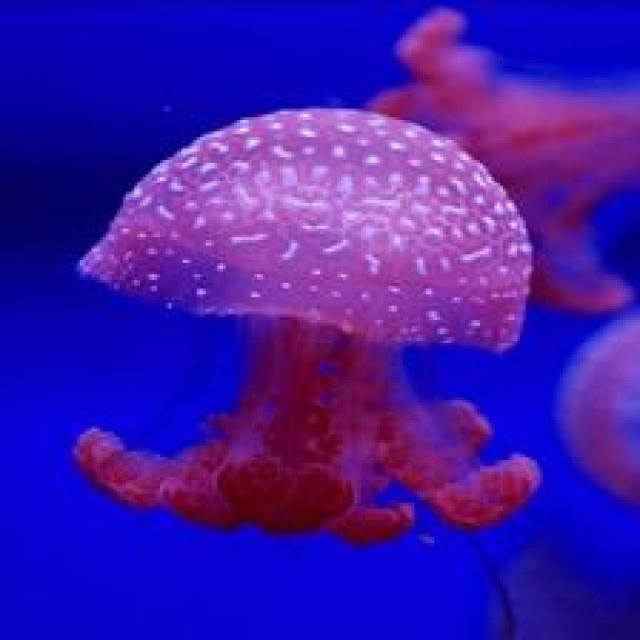Jellyfish: (56, 81, 575, 565)
